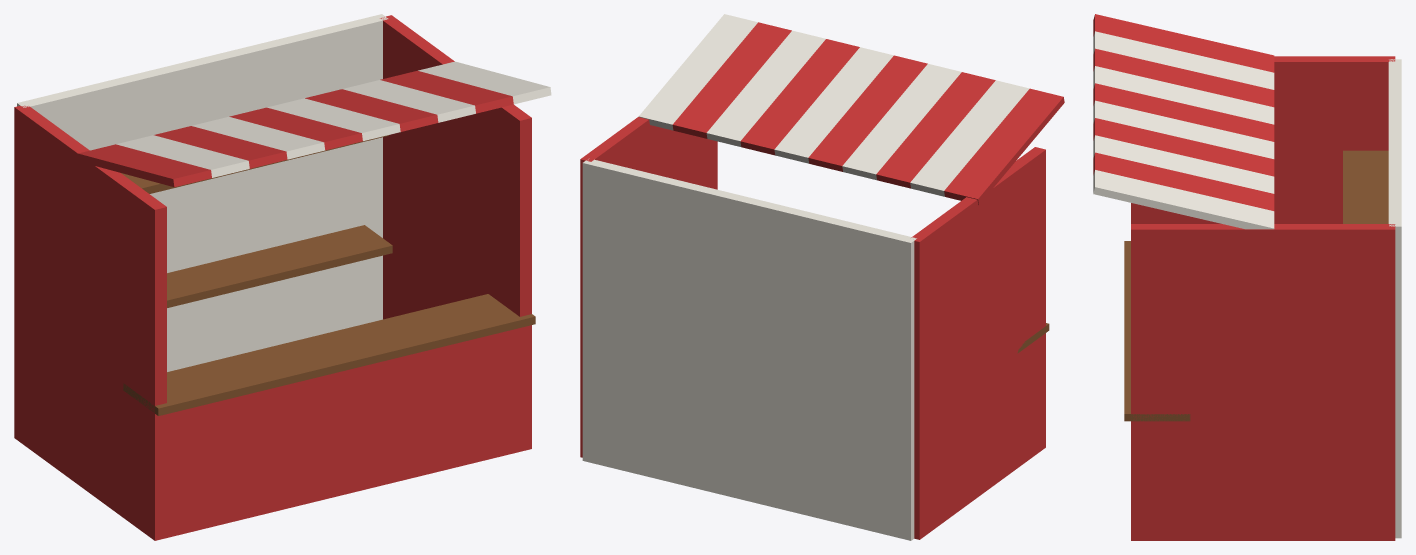
File: cans_booth.glb
The picture shows the model from 3 angles, left to right: view 1: azimuth 30°, elevation 25°; view 2: azimuth 150°, elevation 25°; view 3: azimuth 270°, elevation 25°; orthographic projection. The views are drawn at different scales.
Parts seen in each view (by area): view 1: sides_fair_red, back_fair_white, counter_fair_red, counter_fair_deck, awning_fair_red, awning_fair_white, shelf_fair_deck; view 2: back_fair_white, sides_fair_red, awning_fair_red, awning_fair_white; view 3: sides_fair_red, awning_fair_white, awning_fair_red, back_fair_white, shelf_fair_deck, counter_fair_deck.
Part boxes in pixels (x1=…): sides_fair_red: x1=14, y1=15, x2=531, y2=540; back_fair_white: x1=17, y1=14, x2=388, y2=371; counter_fair_red: x1=161, y1=326, x2=525, y2=538; counter_fair_deck: x1=123, y1=294, x2=535, y2=415; awning_fair_red: x1=78, y1=70, x2=513, y2=187; awning_fair_white: x1=116, y1=61, x2=551, y2=177; shelf_fair_deck: x1=121, y1=135, x2=392, y2=307; back_fair_white: x1=582, y1=158, x2=916, y2=540; sides_fair_red: x1=580, y1=117, x2=1045, y2=539; awning_fair_red: x1=672, y1=22, x2=1064, y2=204; awning_fair_white: x1=638, y1=14, x2=1029, y2=196; sides_fair_red: x1=1131, y1=56, x2=1395, y2=540; awning_fair_white: x1=1093, y1=31, x2=1274, y2=229; awning_fair_red: x1=1093, y1=14, x2=1274, y2=210; back_fair_white: x1=1388, y1=59, x2=1401, y2=538; shelf_fair_deck: x1=1343, y1=150, x2=1388, y2=223; counter_fair_deck: x1=1124, y1=241, x2=1190, y2=421.
Size of the model in its own units: 3.1 by 2.95 by 2.34.
